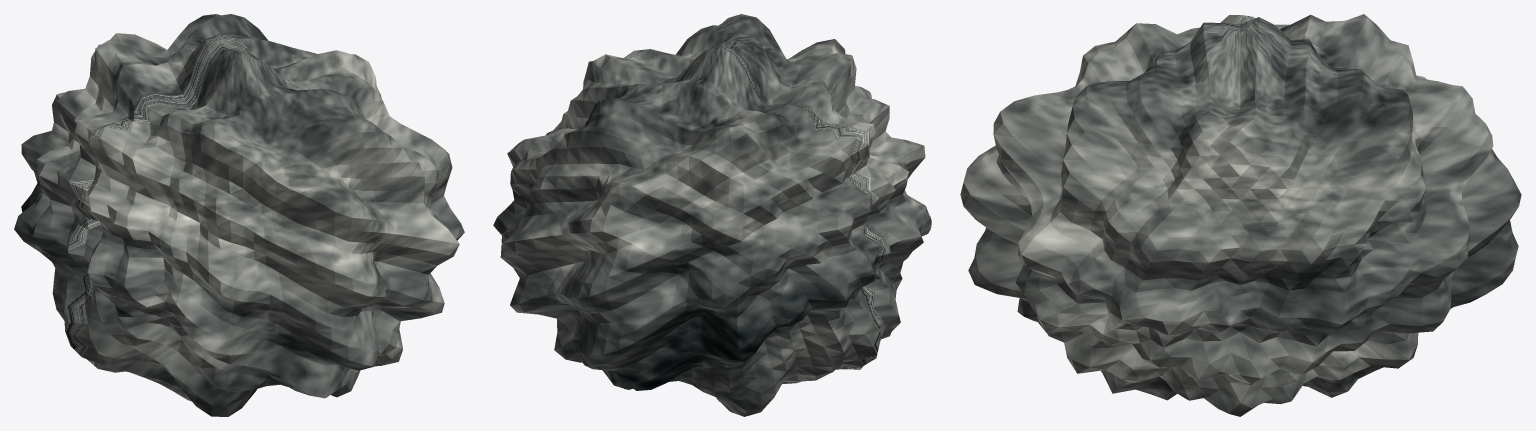
File: medium_02.glb
3 renders of one model, left to right at view 1: azimuth 30°, elevation 25°; view 2: azimuth 150°, elevation 25°; view 3: azimuth 270°, elevation 25°, orthographic. The views are drawn at different scales.
Visible parts, largest first — view 1: rock; view 2: rock; view 3: rock.
Part boxes in pixels (left/top/right/bottom): rock: left=14, top=14, right=464, bottom=416; rock: left=493, top=14, right=931, bottom=416; rock: left=960, top=14, right=1521, bottom=416.
Size of the model in its own units: 2.35 by 2.13 by 3.
1 material, 1 textured.
